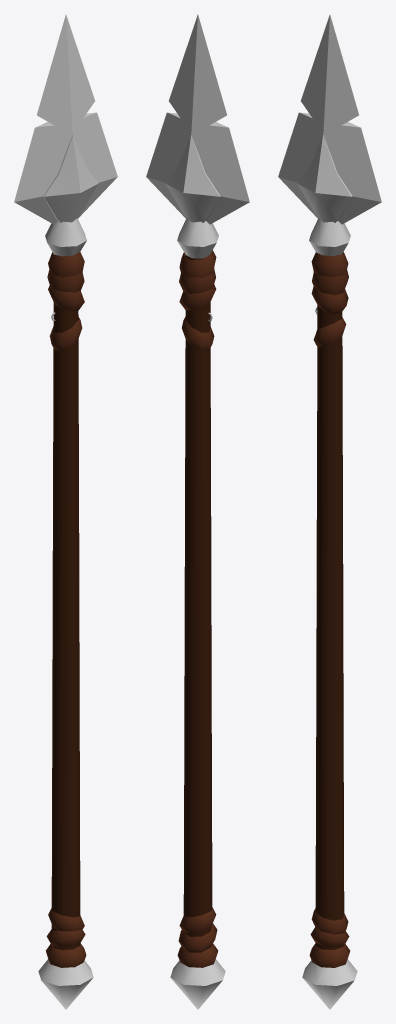
Rendered from preview.obj.
3 renders of one model, left to right at view 1: azimuth 30°, elevation 25°; view 2: azimuth 150°, elevation 25°; view 3: azimuth 330°, elevation 25°, orthographic.
Parts seen in each view (by area): view 1: Meshpart31, Meshpart41, Meshpart11, Meshpart21; view 2: Meshpart31, Meshpart41, Meshpart11, Meshpart21; view 3: Meshpart31, Meshpart41, Meshpart11, Meshpart21.
Part boxes in pixels (x1=…): Meshpart31: x1=51, y1=302, x2=80, y2=949; Meshpart41: x1=14, y1=14, x2=117, y2=224; Meshpart11: x1=38, y1=135, x2=98, y2=1009; Meshpart21: x1=45, y1=252, x2=86, y2=967; Meshpart31: x1=183, y1=255, x2=212, y2=936; Meshpart41: x1=146, y1=14, x2=249, y2=224; Meshpart11: x1=165, y1=135, x2=225, y2=1009; Meshpart21: x1=177, y1=250, x2=218, y2=967; Meshpart31: x1=315, y1=305, x2=344, y2=949; Meshpart41: x1=278, y1=15, x2=381, y2=224; Meshpart11: x1=297, y1=135, x2=357, y2=1009; Meshpart21: x1=309, y1=252, x2=350, y2=967.
Bounding box in the file's own units: 1.12 × 10.3 × 0.5475.
